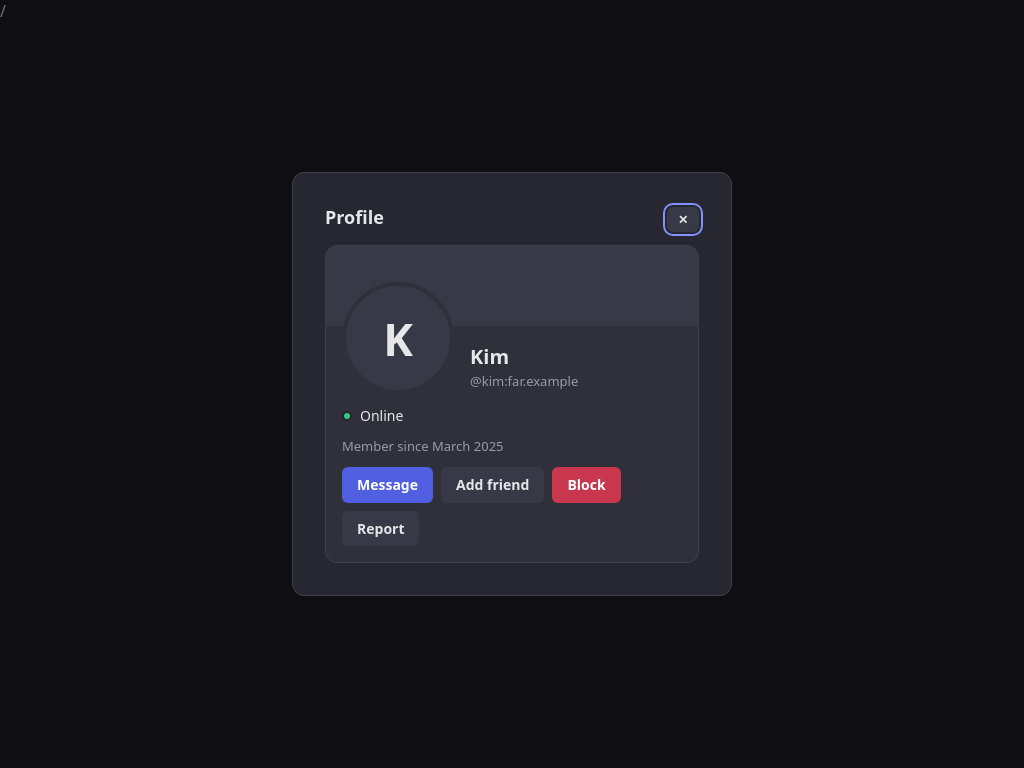
it: the profile dialog on a private server › says why when adding a friend on another server is refused, not just that it failed
Click the button "Add friend": (493, 485) [441,467,544,502]
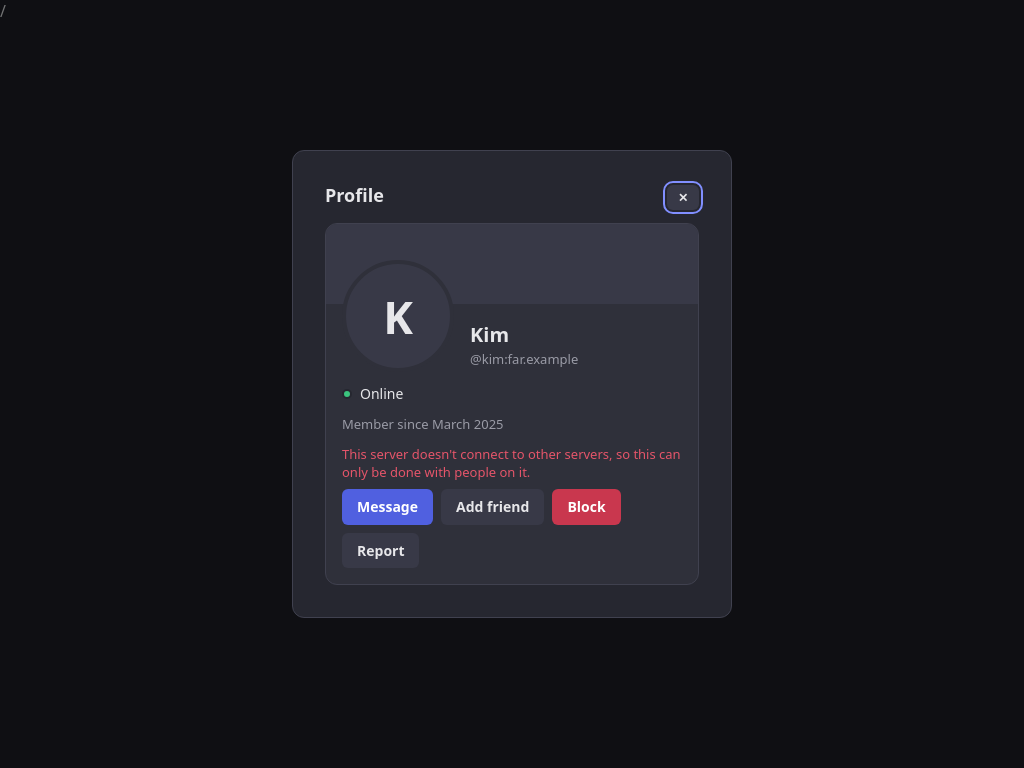
Now the message shows "This server doesn't connect to other servers, so this can only be done with people on it.", box [342,445,681,481]
